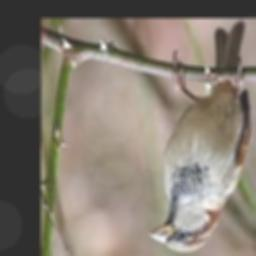Sparrow: (149, 22, 250, 252)
